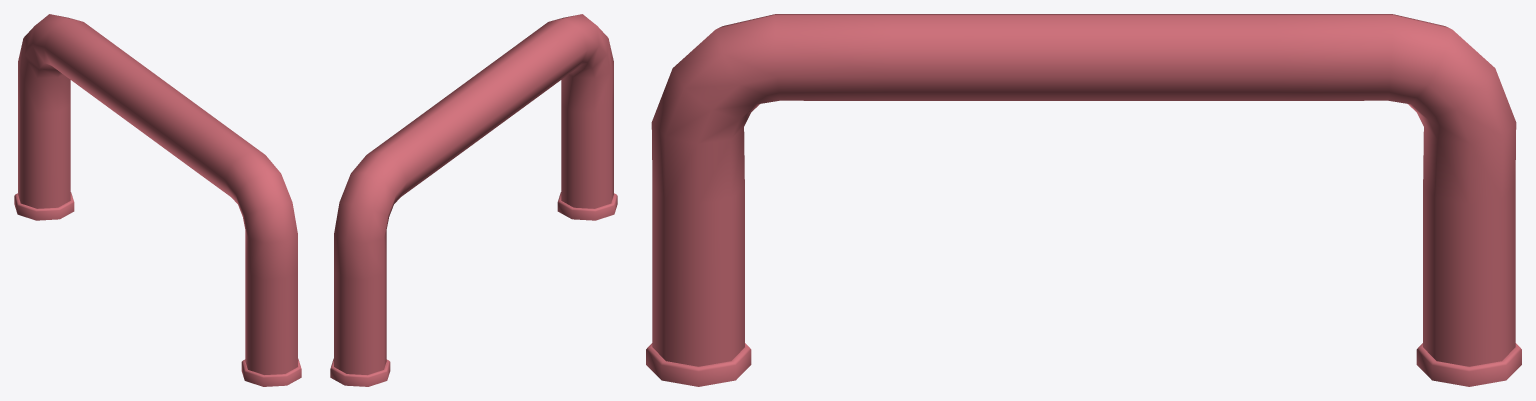
The model's file is uploads_files_2027070_Tube_03.fbx.
3 renders of one model, left to right at view 1: azimuth 30°, elevation 25°; view 2: azimuth 150°, elevation 25°; view 3: azimuth 270°, elevation 25°, orthographic. The views are drawn at different scales.
Visible parts, largest first — view 1: Tube_03; view 2: Tube_03; view 3: Tube_03.
Part boxes in pixels (x1,y1,x2,y2): Tube_03: (14,14,301,386); Tube_03: (330,14,617,386); Tube_03: (646,14,1521,386).
Size of the model in its own units: 27.29 by 100 by 227.
